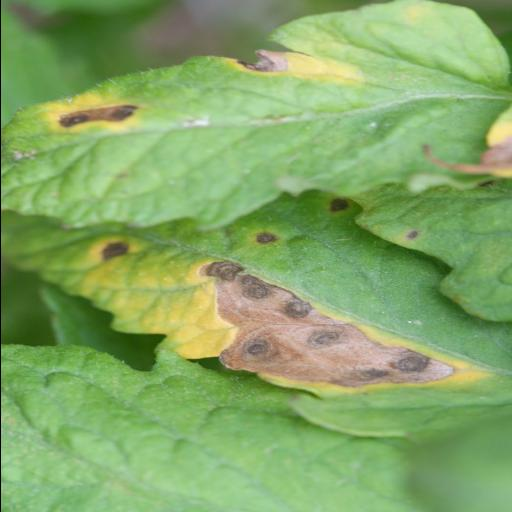Early Blight: (0, 0, 503, 241), (22, 226, 508, 440)
